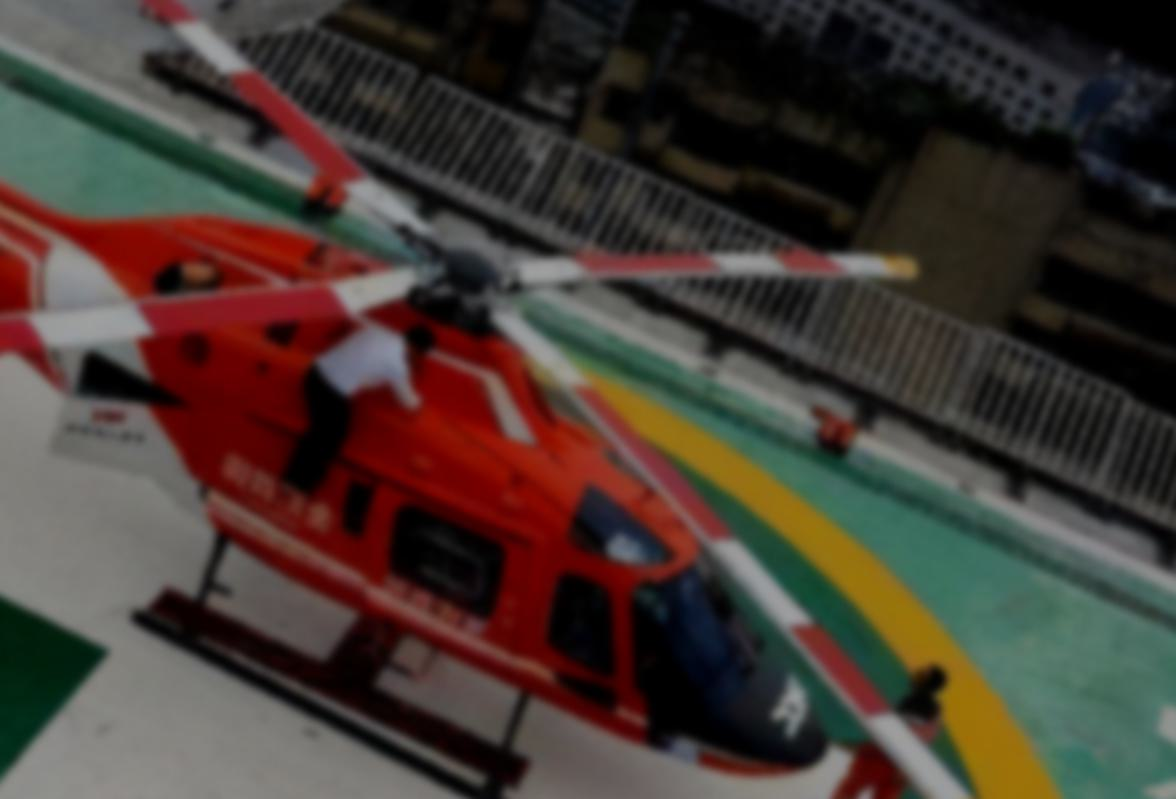Apron: (3, 145, 1154, 799)
